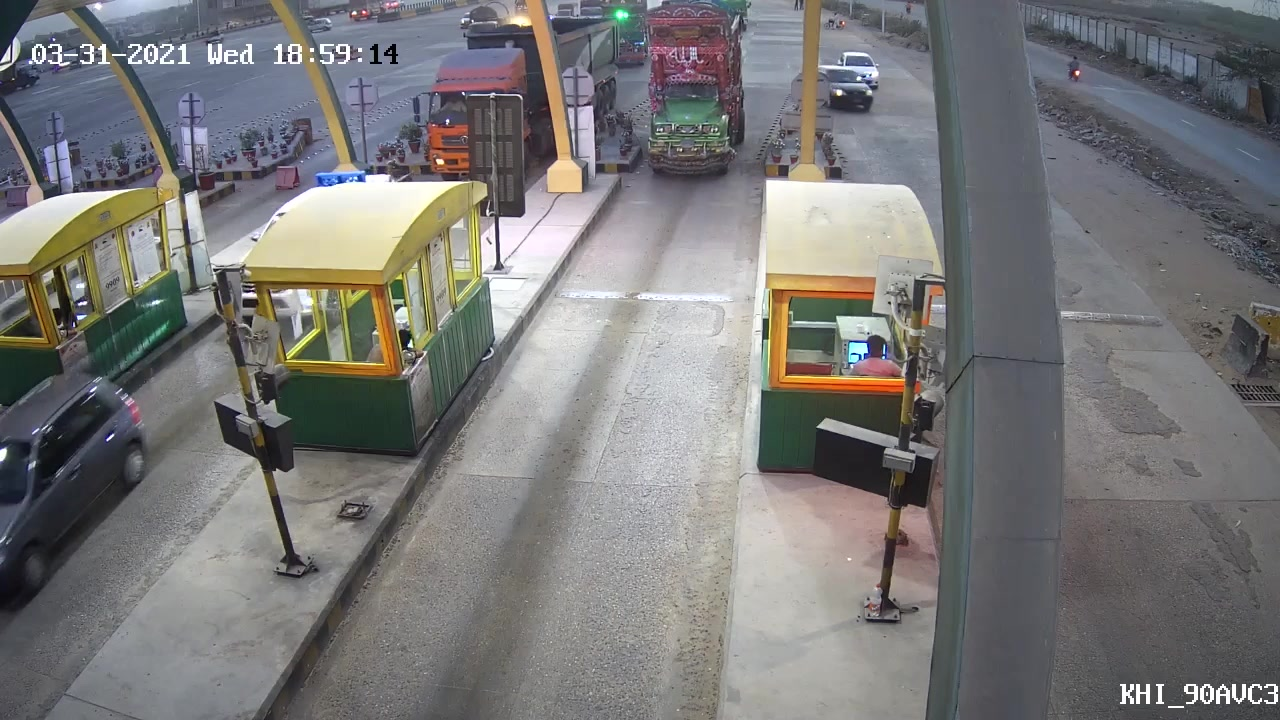F5: (621, 4, 761, 183)
